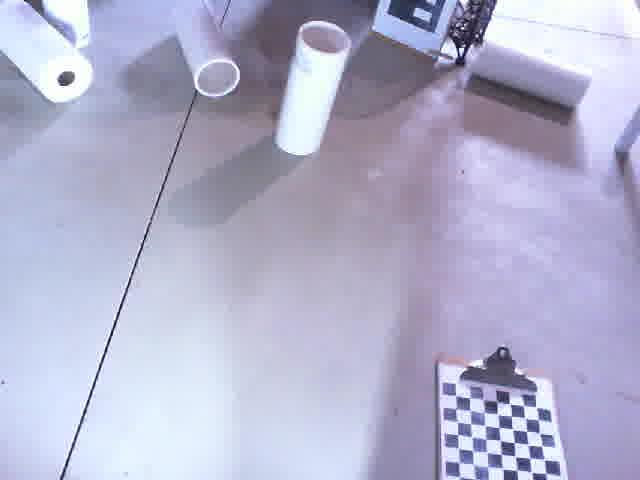coral: (275, 21, 352, 155), (0, 0, 93, 103), (161, 0, 241, 98)
